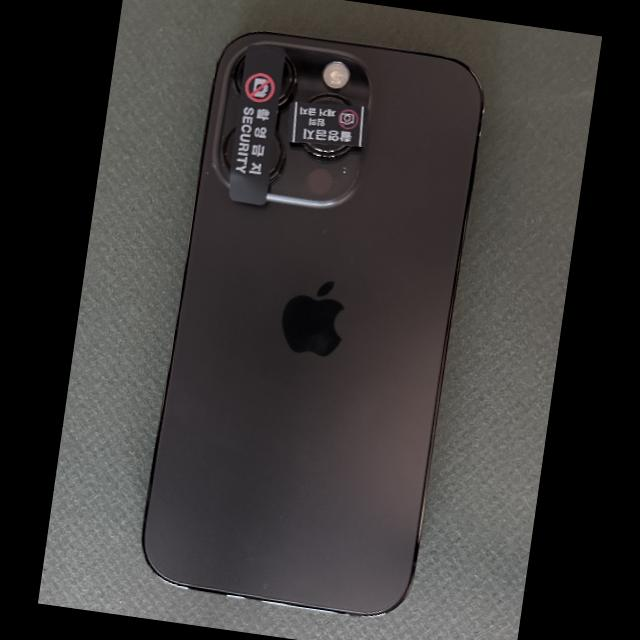lens: (278, 57, 297, 105), (269, 133, 285, 180), (302, 144, 353, 158)
phone: (144, 33, 482, 615)
sticker: (228, 44, 286, 206), (286, 101, 370, 147)
